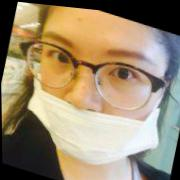WRONG: (22, 4, 170, 178)
